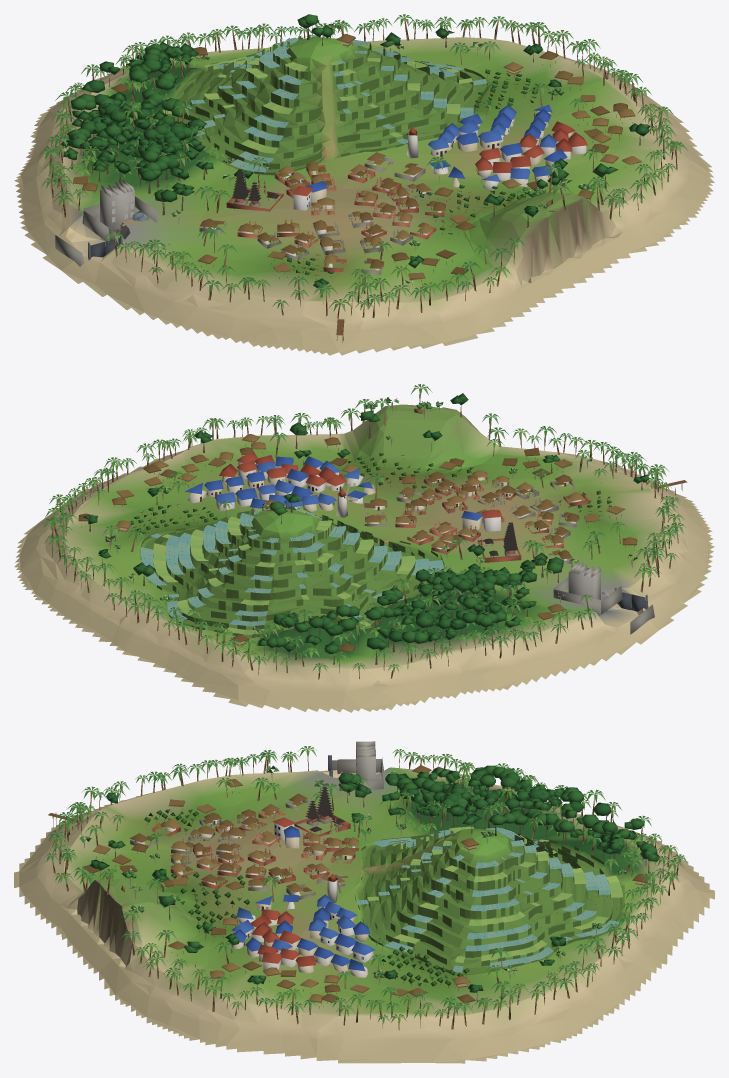
3 renders of one model, top to bottom at view 1: azimuth 30°, elevation 25°; view 2: azimuth 150°, elevation 25°; view 3: azimuth 270°, elevation 25°, orthographic. The views are drawn at different scales.
Parts seen in each view (by area): view 1: BASE, VILLE_2, VILLE_3, VILLE_4; view 2: BASE, VILLE_2, VILLE_3, VILLE_4; view 3: BASE, VILLE_2, VILLE_3, VILLE_4.
Part boxes in pixels (x1,y1,x2,y2): BASE: (14,14,714,355); VILLE_2: (153,25,650,294); VILLE_3: (81,51,641,274); VILLE_4: (73,76,603,285); BASE: (14,384,714,712); VILLE_2: (98,393,637,648); VILLE_3: (78,434,637,657); VILLE_4: (116,447,625,625); BASE: (14,741,714,1063); VILLE_2: (79,765,650,995); VILLE_3: (130,765,605,1008); VILLE_4: (82,766,446,1002).
Size of the model in its own units: 64.5 by 11.82 by 66.
